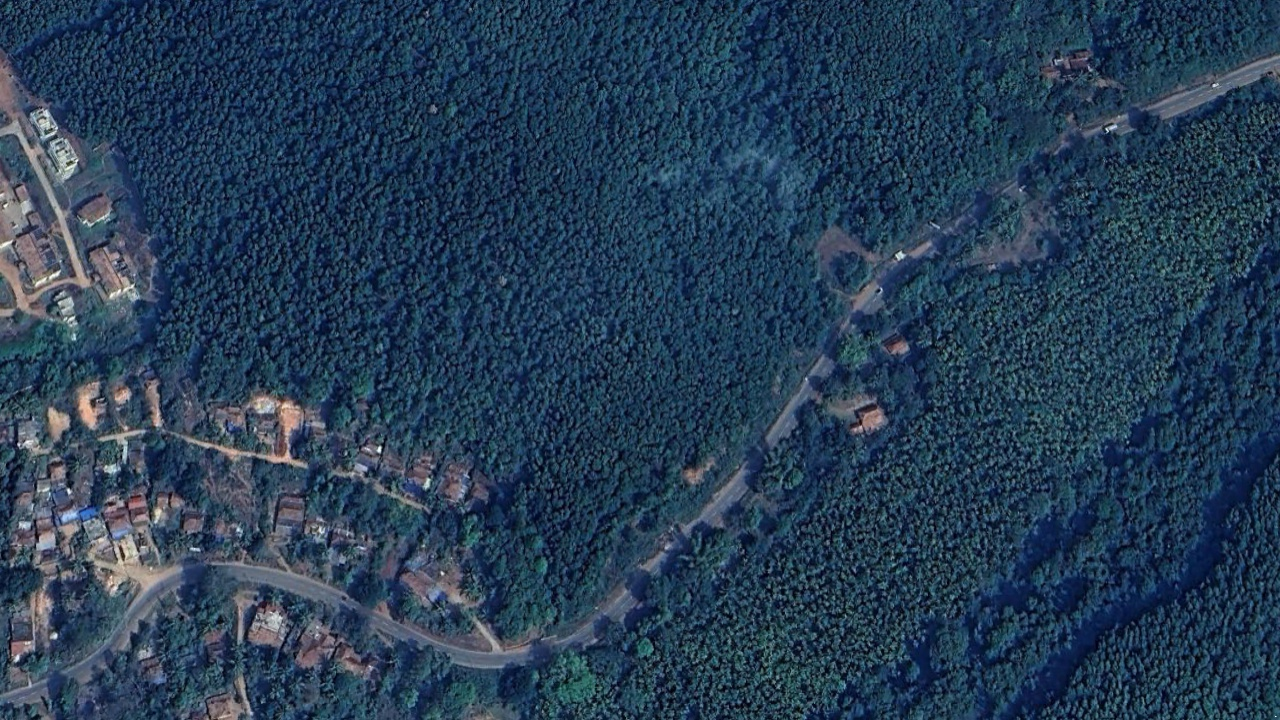arecanut: (561, 75, 1278, 720)
